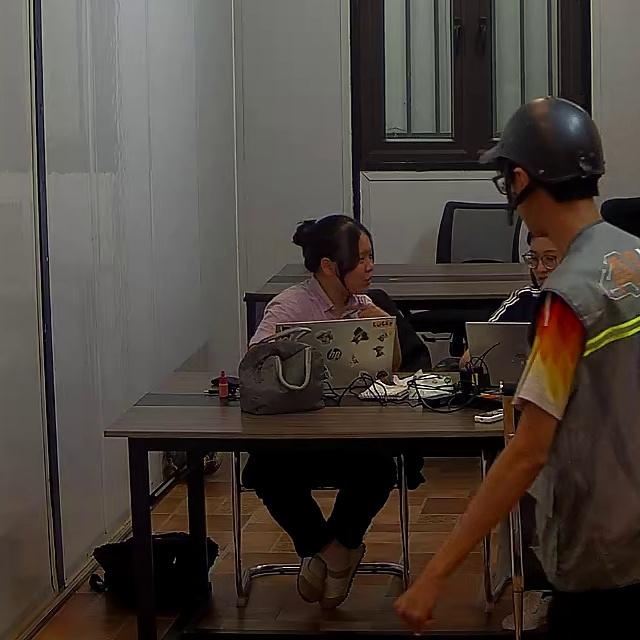helmet: (476, 95, 607, 183)
no_helmet: (292, 214, 368, 276)
none: (247, 275, 377, 351)
vest: (515, 225, 640, 596)
